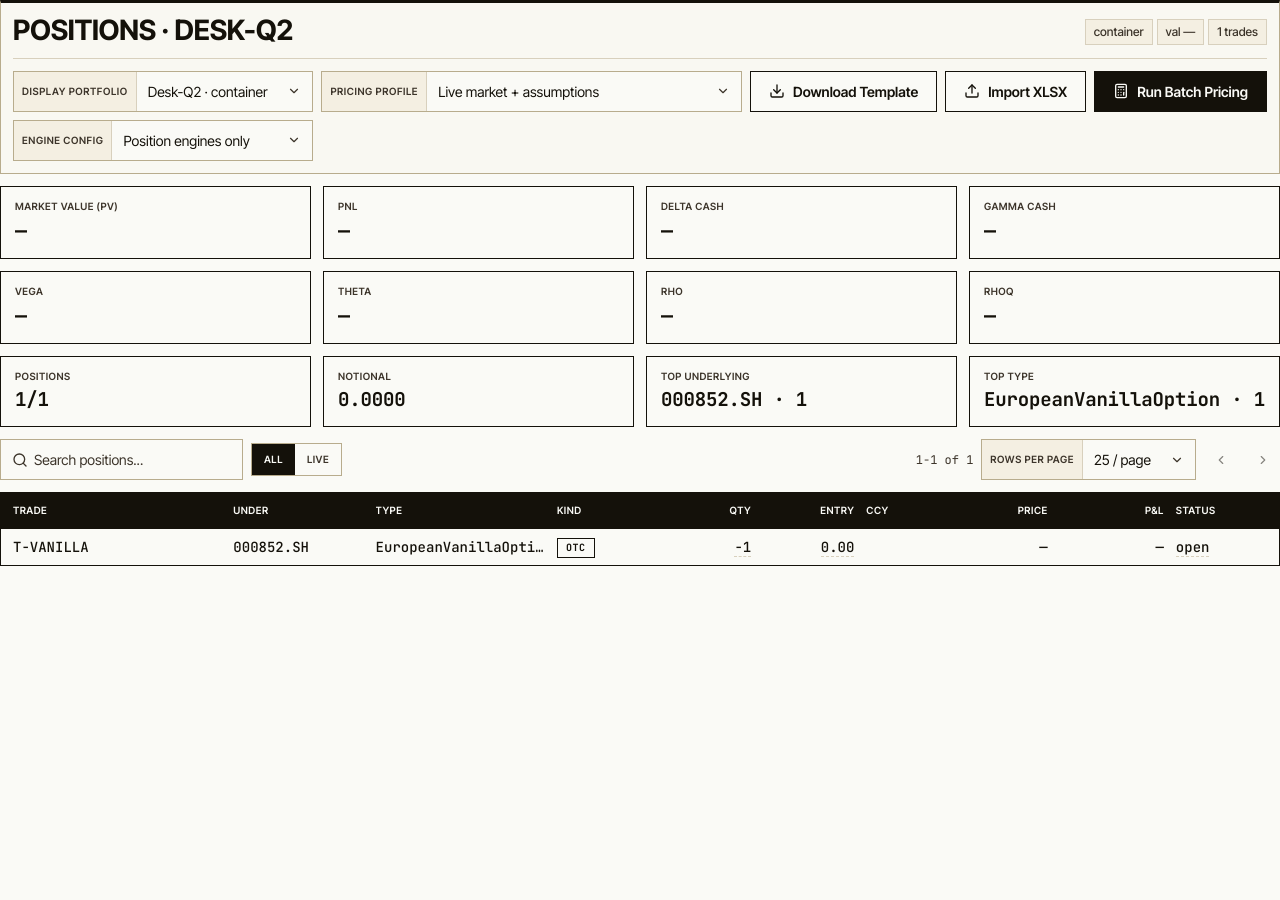
Scenario: PositionsLive › leaves pricing inputs empty when there is no run result (PositionMarketInput store is gone)
The width and height of the screenshot is (1280, 900).
Click the text "T-VANILLA" at (51, 547), box [13,538,89,556]
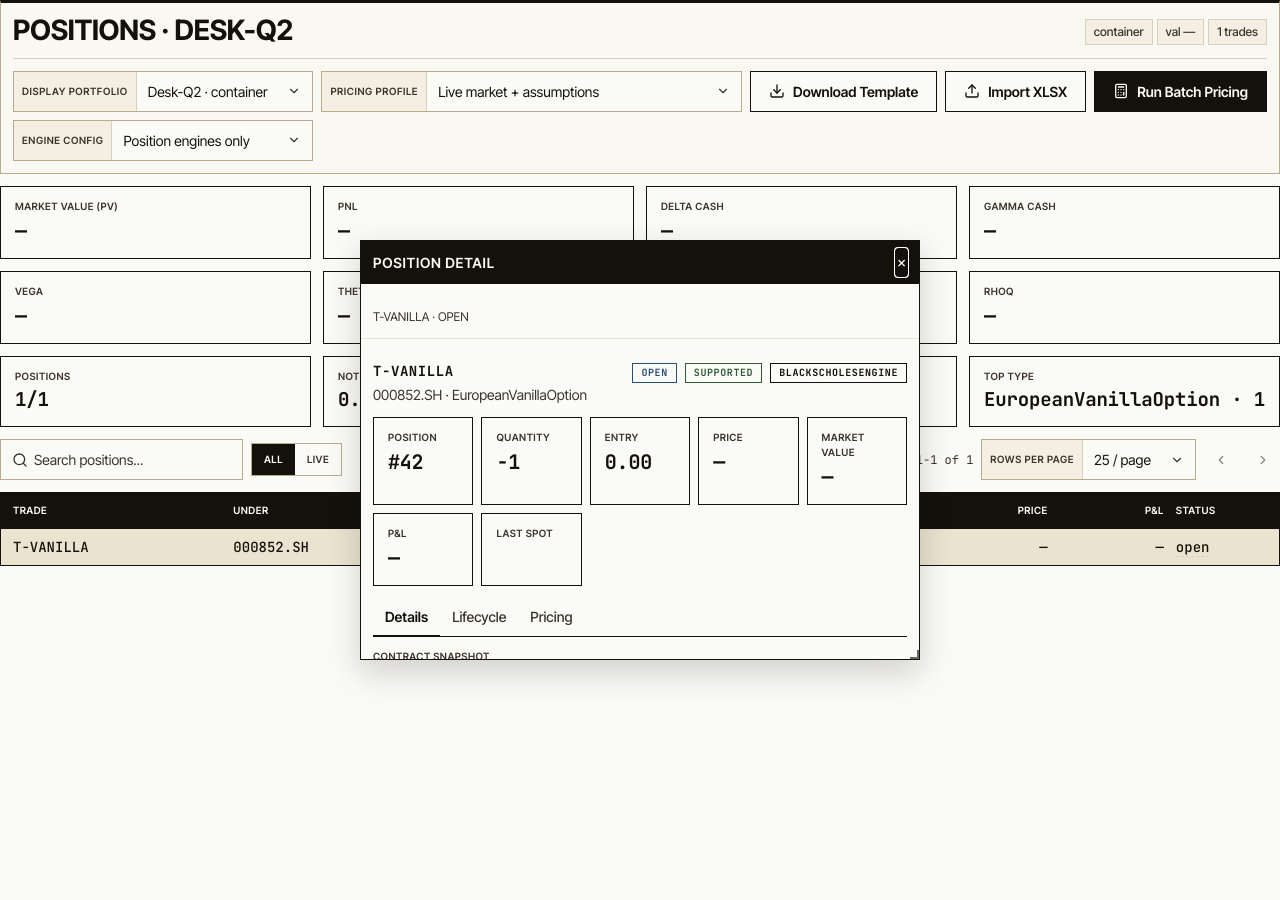
Click the tab "Pricing" at (551, 617), box [518,598,584,637]
(page scrolled)
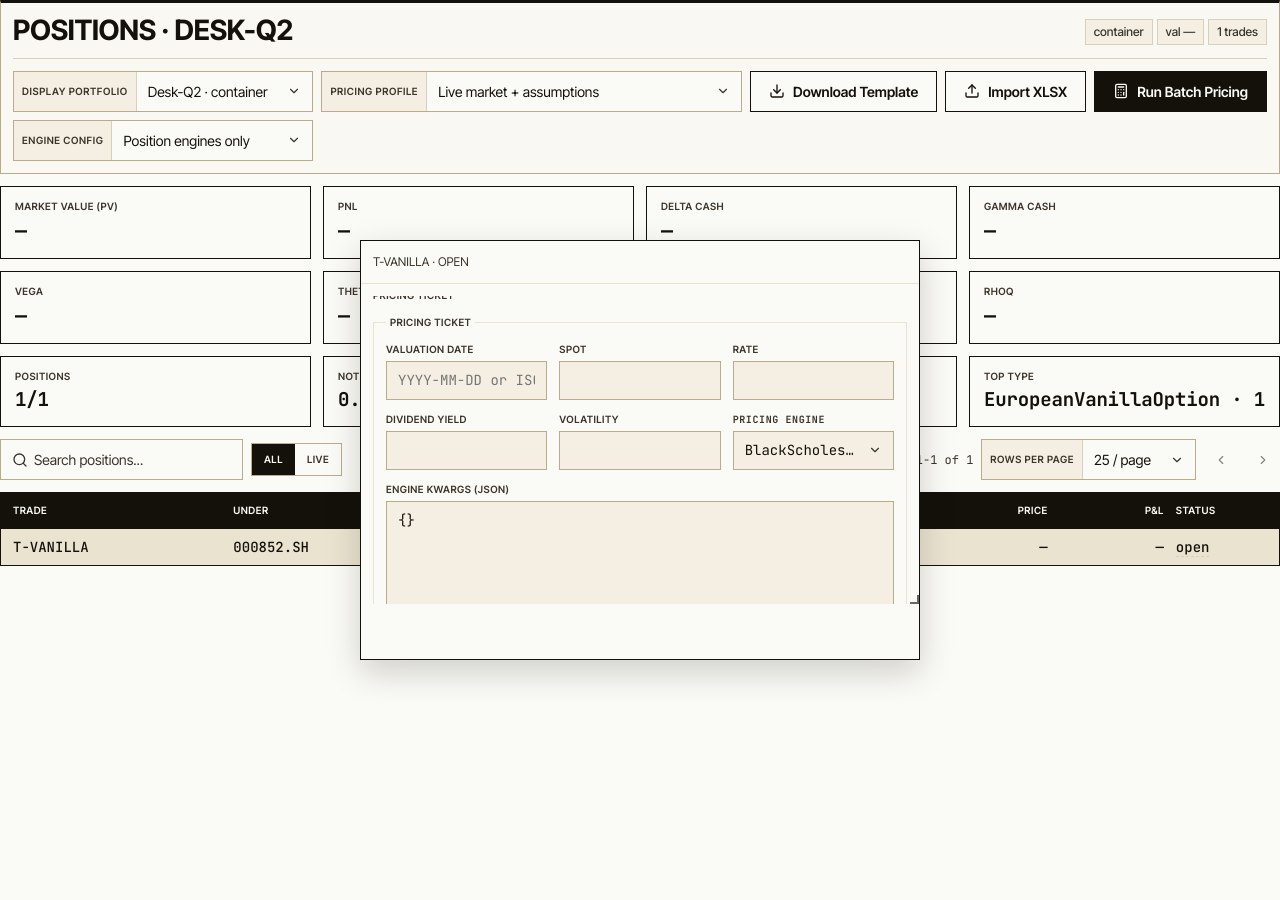
Expected: the dialog "Position Detail" is shown, [360,240,920,660]
Expected: the number field named "Pricing spot" is not empty, [559,361,721,400]
Expected: the number field named "Pricing rate" is not empty, [733,361,894,400]
